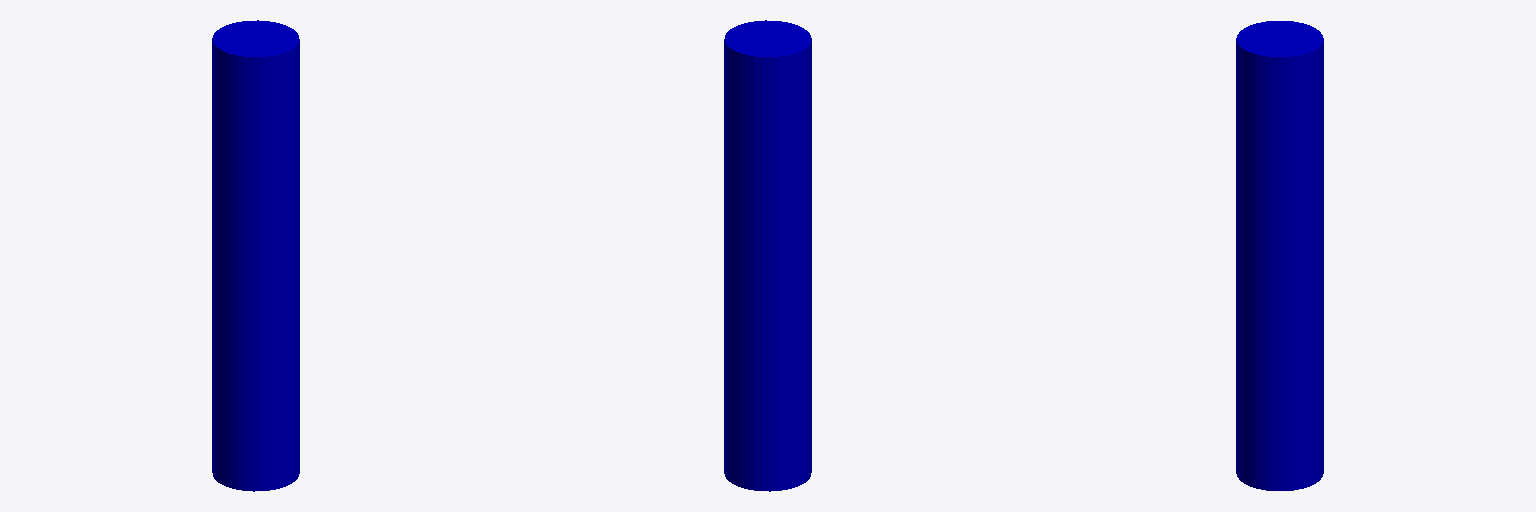
The robot description file, URDF, robot "simple_cube":
<robot name="simple_cube">
  <!-- two connected boxes for debugging wrench/reference frame application utilities -->
  <link name="cube1">
    <inertial>
      <mass value="0.2" />
      <origin xyz="0 0 2" /> 
      <inertia  ixx="0.1" ixy="0.0"  ixz="0.0"  iyy="0.1"  iyz="0.0"  izz="0.1" />
    </inertial>
    <visual>
      <geometry>
        <cylinder length="0.315" radius="0.0287"/>
      </geometry>
      <material name="red">
        <color rgba="0 0 .8 1"/>
      </material>
    </visual>
    <collision>
      <geometry>
        <cylinder length="0.315" radius="0.0287"/>
      </geometry>
    </collision>
  </link>
  <gazebo reference="cube1">
    <material>Gazebo/Red</material>
    <turnGravityOff>false</turnGravityOff>
  </gazebo>
</robot>

--- Facts derived from the render (not from the file) ---
The picture shows the robot from 3 angles, left to right: view 1: azimuth 30°, elevation 25°; view 2: azimuth 150°, elevation 25°; view 3: azimuth 270°, elevation 25°; orthographic projection.
Robot: simple_cube — 1 links, 0 joints (none); root link cube1; default pose: all joints at 0.
Visible links, largest first — view 1: cube1; view 2: cube1; view 3: cube1.
Link boxes in pixels (left/top/right/bottom): cube1: left=212, top=20, right=299, bottom=491; cube1: left=724, top=20, right=811, bottom=491; cube1: left=1236, top=21, right=1323, bottom=490.
Size in the robot's own frame: 0.0574 by 0.0574 by 0.315 metres.
Geometry: primitives only (box / cylinder / sphere), no mesh files.